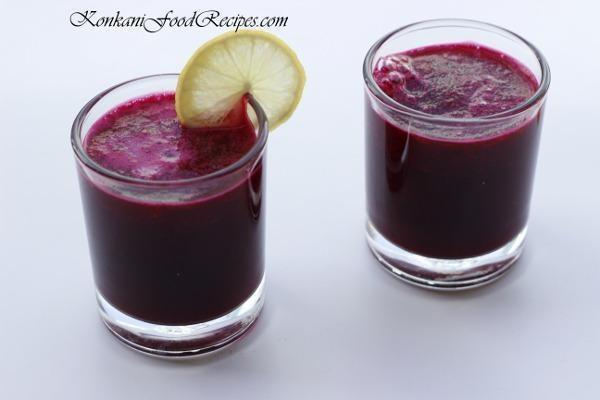glass-normal: (69, 70, 272, 360), (361, 14, 553, 291)
